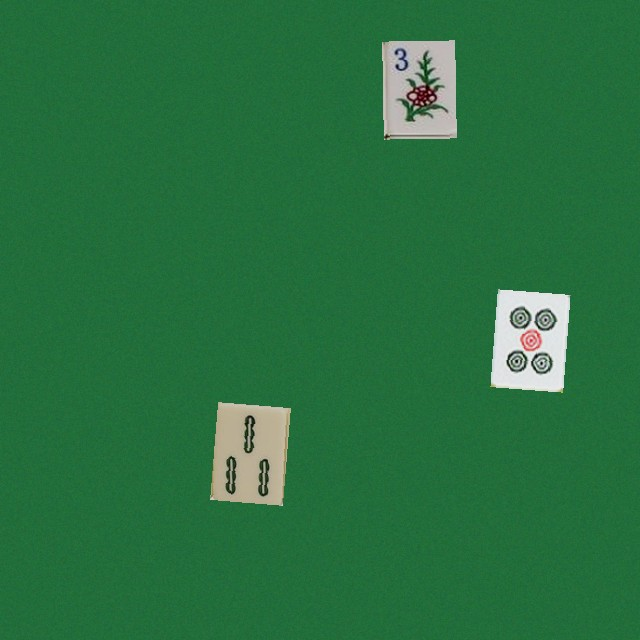tile: (210, 402, 283, 500), (382, 40, 455, 138), (490, 289, 563, 387)
